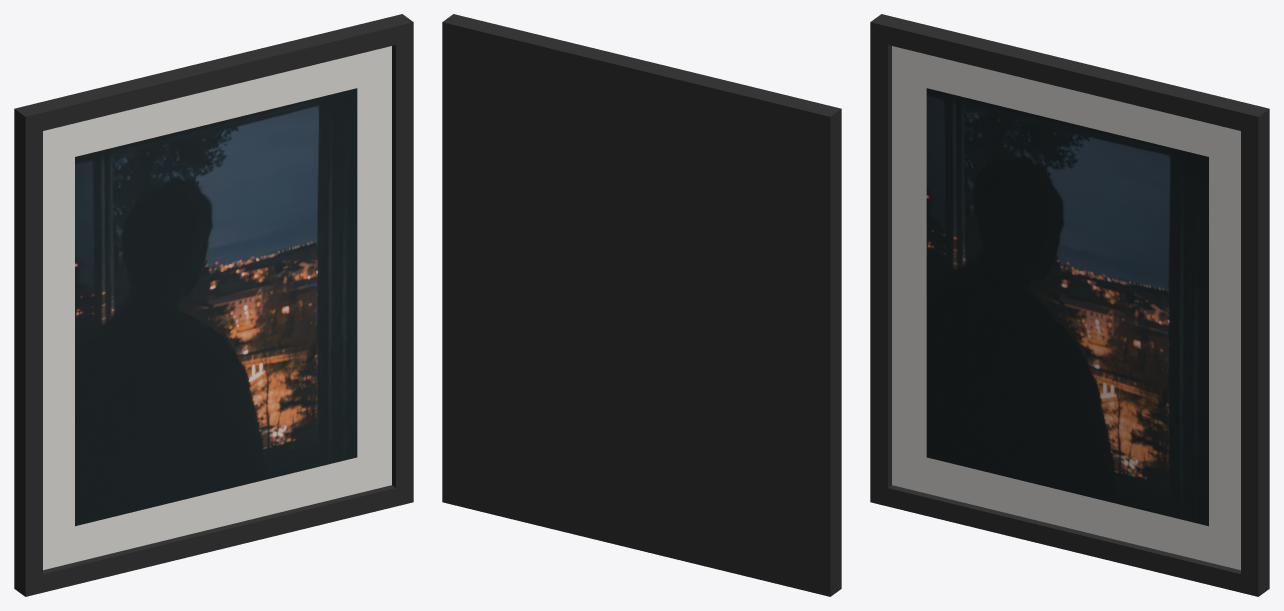
File: utsikten-40.gltf
3 views of the same model, side by side, from view 1: azimuth 30°, elevation 25°; view 2: azimuth 150°, elevation 25°; view 3: azimuth 330°, elevation 25° (orthographic).
Parts seen in each view (by area): view 1: tavla; view 2: tavla; view 3: tavla.
Part boxes in pixels (x1,y1,x2,y2): tavla: (14, 14, 413, 596); tavla: (442, 14, 841, 596); tavla: (870, 14, 1269, 596).
Bounding box in the file's own units: 0.44 × 0.52 × 0.022.
Materials: 3 (1 with a texture image).
